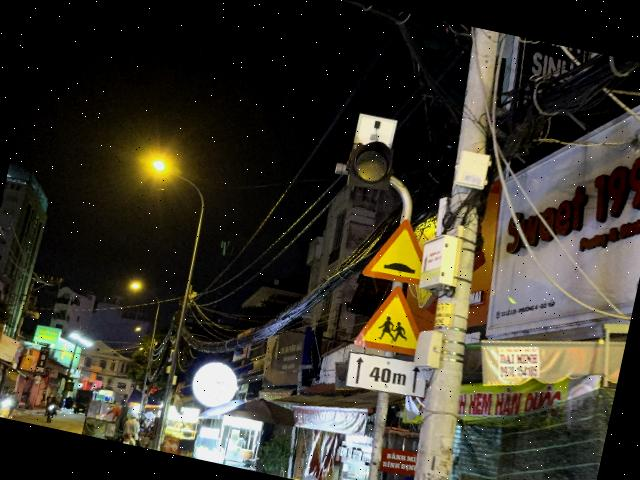duong-co-go-giam-toc: (361, 213, 431, 286)
tre-em-qua-duong: (352, 280, 428, 358)
